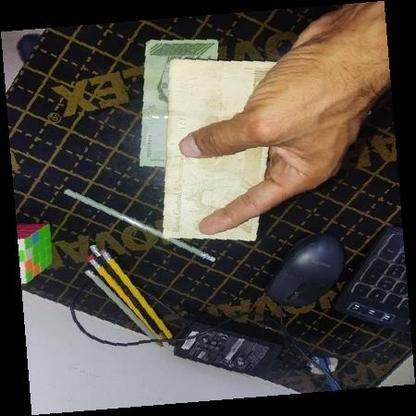fifty-front-vef: (138, 38, 218, 166)
five-back-vef: (162, 58, 276, 240)
